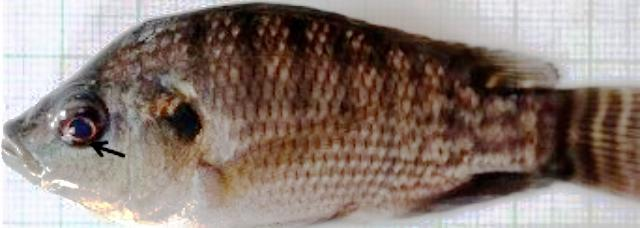Tilapia Lake Virus -TiLV-: (6, 2, 638, 226)
